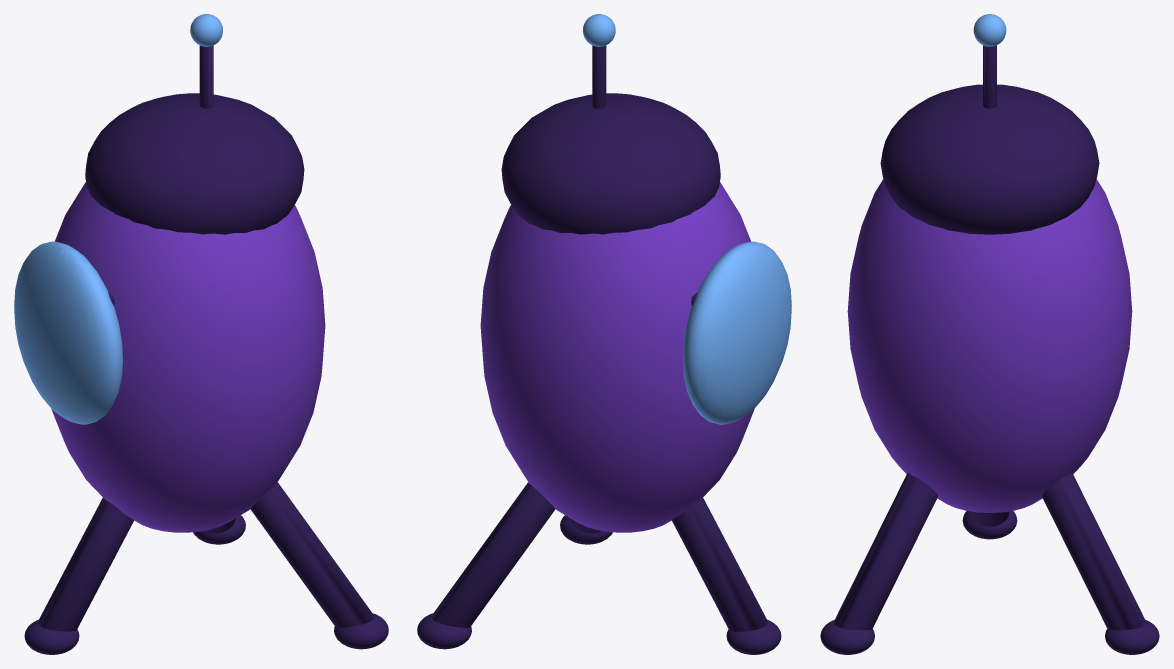
File: pulse_enemy_ranged.obj
The picture shows the model from 3 angles, left to right: view 1: azimuth 30°, elevation 25°; view 2: azimuth 150°, elevation 25°; view 3: azimuth 270°, elevation 25°; orthographic projection.
Visible parts, largest first — view 1: ranged_pod, ranged_crest, ranged_eye, ranged_leg_2, ranged_leg_0, ranged_foot_0, ranged_foot_2, ranged_antenna, ranged_antenna_tip, ranged_foot_1; view 2: ranged_pod, ranged_crest, ranged_eye, ranged_leg_1, ranged_leg_0, ranged_foot_0, ranged_foot_1, ranged_antenna, ranged_antenna_tip, ranged_foot_2; view 3: ranged_pod, ranged_crest, ranged_leg_1, ranged_leg_2, ranged_foot_1, ranged_foot_2, ranged_antenna, ranged_antenna_tip, ranged_foot_0.
Boxes of the visible parts, x1,y1,x2,y2 form: ranged_pod: (51,182,325,532); ranged_crest: (85,93,304,234); ranged_eye: (14,241,122,424); ranged_leg_2: (250,482,374,627); ranged_leg_0: (38,497,133,631); ranged_foot_0: (24,620,79,654); ranged_foot_2: (334,613,388,649); ranged_antenna: (199,45,213,108); ranged_antenna_tip: (190,14,222,46); ranged_foot_1: (193,515,245,544); ranged_pod: (480,182,754,532); ranged_crest: (501,93,720,234); ranged_eye: (683,241,791,424); ranged_leg_1: (431,482,555,627); ranged_leg_0: (672,497,767,631); ranged_foot_0: (726,620,781,654); ranged_foot_1: (417,613,471,649); ranged_antenna: (592,45,606,108); ranged_antenna_tip: (583,14,615,46); ranged_foot_2: (560,515,612,544); ranged_pod: (847,179,1132,512); ranged_crest: (880,84,1099,234); ranged_leg_1: (1042,473,1146,630); ranged_leg_2: (833,473,937,630); ranged_foot_1: (1105,620,1159,654); ranged_foot_2: (820,620,874,654); ranged_antenna: (983,45,996,108); ranged_antenna_tip: (973,14,1006,46); ranged_foot_0: (962,511,1017,539).
Bounding box in the file's own units: 1.2 × 2.4 × 1.24.
